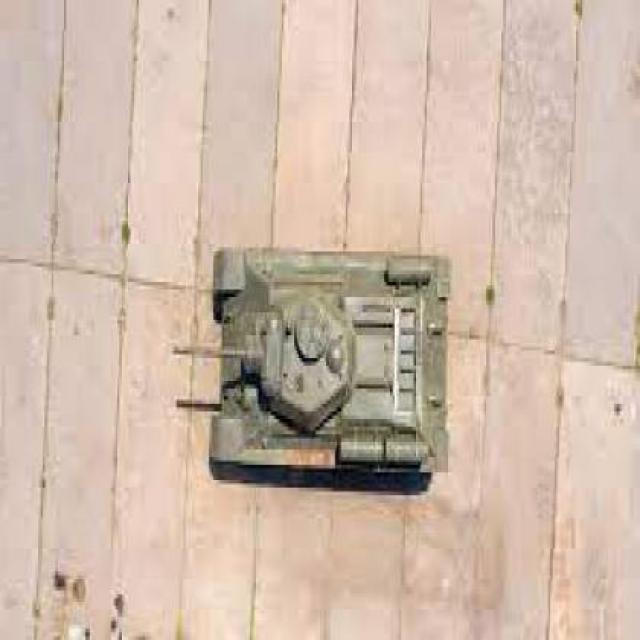tank: (171, 247, 451, 481)
